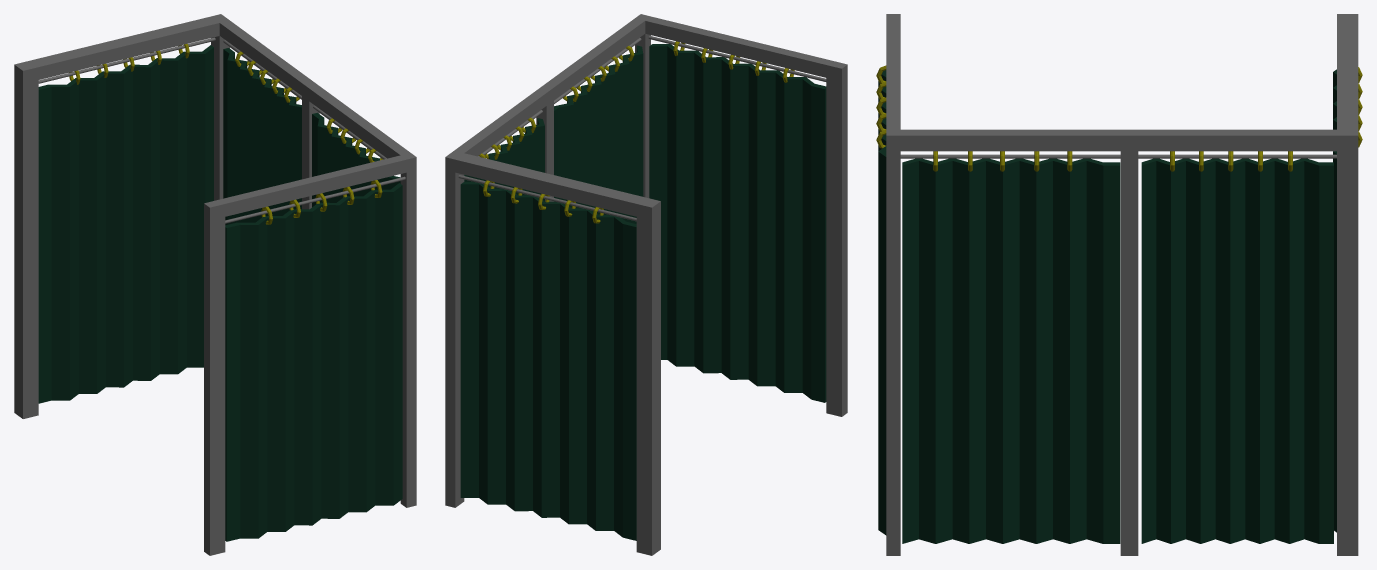
File: DressingRoom.fbx
3 renders of one model, left to right at view 1: azimuth 30°, elevation 25°; view 2: azimuth 150°, elevation 25°; view 3: azimuth 270°, elevation 25°, orthographic. The views are drawn at different scales.
Visible parts, largest first — view 1: Cube.003, Cube.004, Cube, Cube.002, Cube.001, Cylinder.001, Cylinder.002, Cylinder; view 2: Cube.004, Cube.003, Cube, Cube.001, Cube.002, Cylinder.002, Cylinder.001, Cylinder; view 3: Cube.001, Cube.002, Cube, Cube.003, Cylinder, Cube.004.
Part boxes in pixels (x1,y1,x2,y2): Cube.003: (225,183,402,541); Cube.004: (38,45,213,403); Cube: (14,14,416,555); Cube.002: (223,48,301,225); Cube.001: (312,112,400,206); Cylinder.001: (225,176,405,223); Cylinder.002: (38,37,215,83); Cylinder: (223,40,386,159); Cube.004: (460,182,636,540); Cube.003: (649,44,826,402); Cube: (445,14,847,555); Cube.001: (554,45,643,223); Cube.002: (464,118,544,201); Cylinder.002: (458,175,636,221); Cylinder.001: (648,36,826,81); Cylinder: (478,38,641,156); Cube.001: (902,158,1120,543); Cube.002: (1141,158,1333,543); Cube: (886,14,1358,555); Cube.003: (878,70,886,535); Cylinder: (900,154,1336,158); Cube.004: (1333,69,1336,532).
Size of the model in its own units: 186 by 293 by 308.
